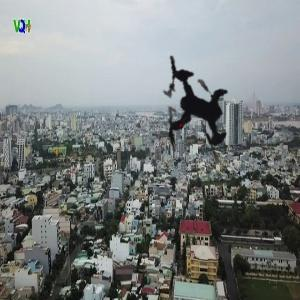drone: (113, 28, 278, 193)
